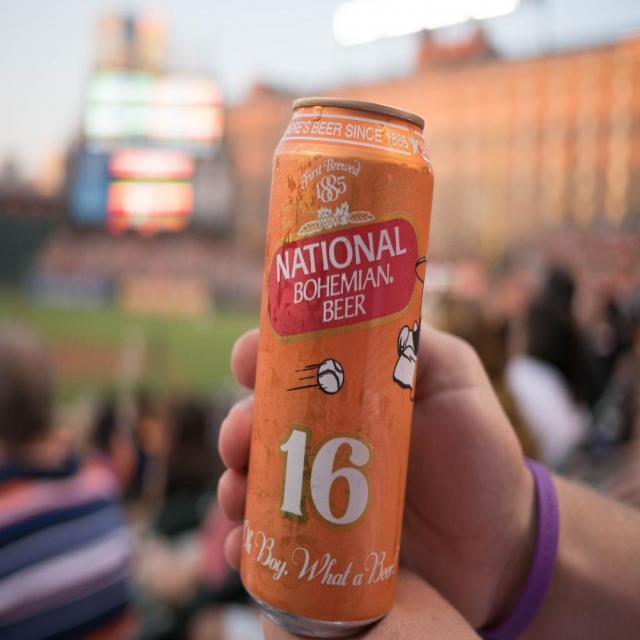metal-can: (234, 79, 442, 639)
